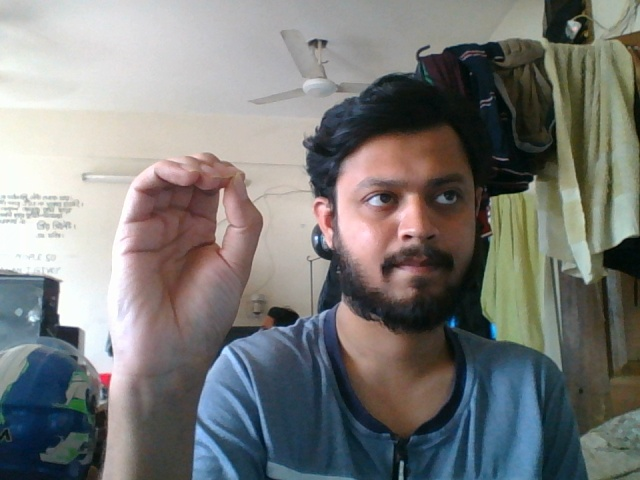oo: (105, 145, 272, 337)
